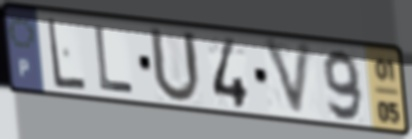4: (210, 34, 251, 111)
9: (320, 48, 366, 123)
L: (45, 15, 89, 92), (92, 23, 137, 96)
U: (147, 24, 204, 107)
V: (260, 36, 317, 122)
